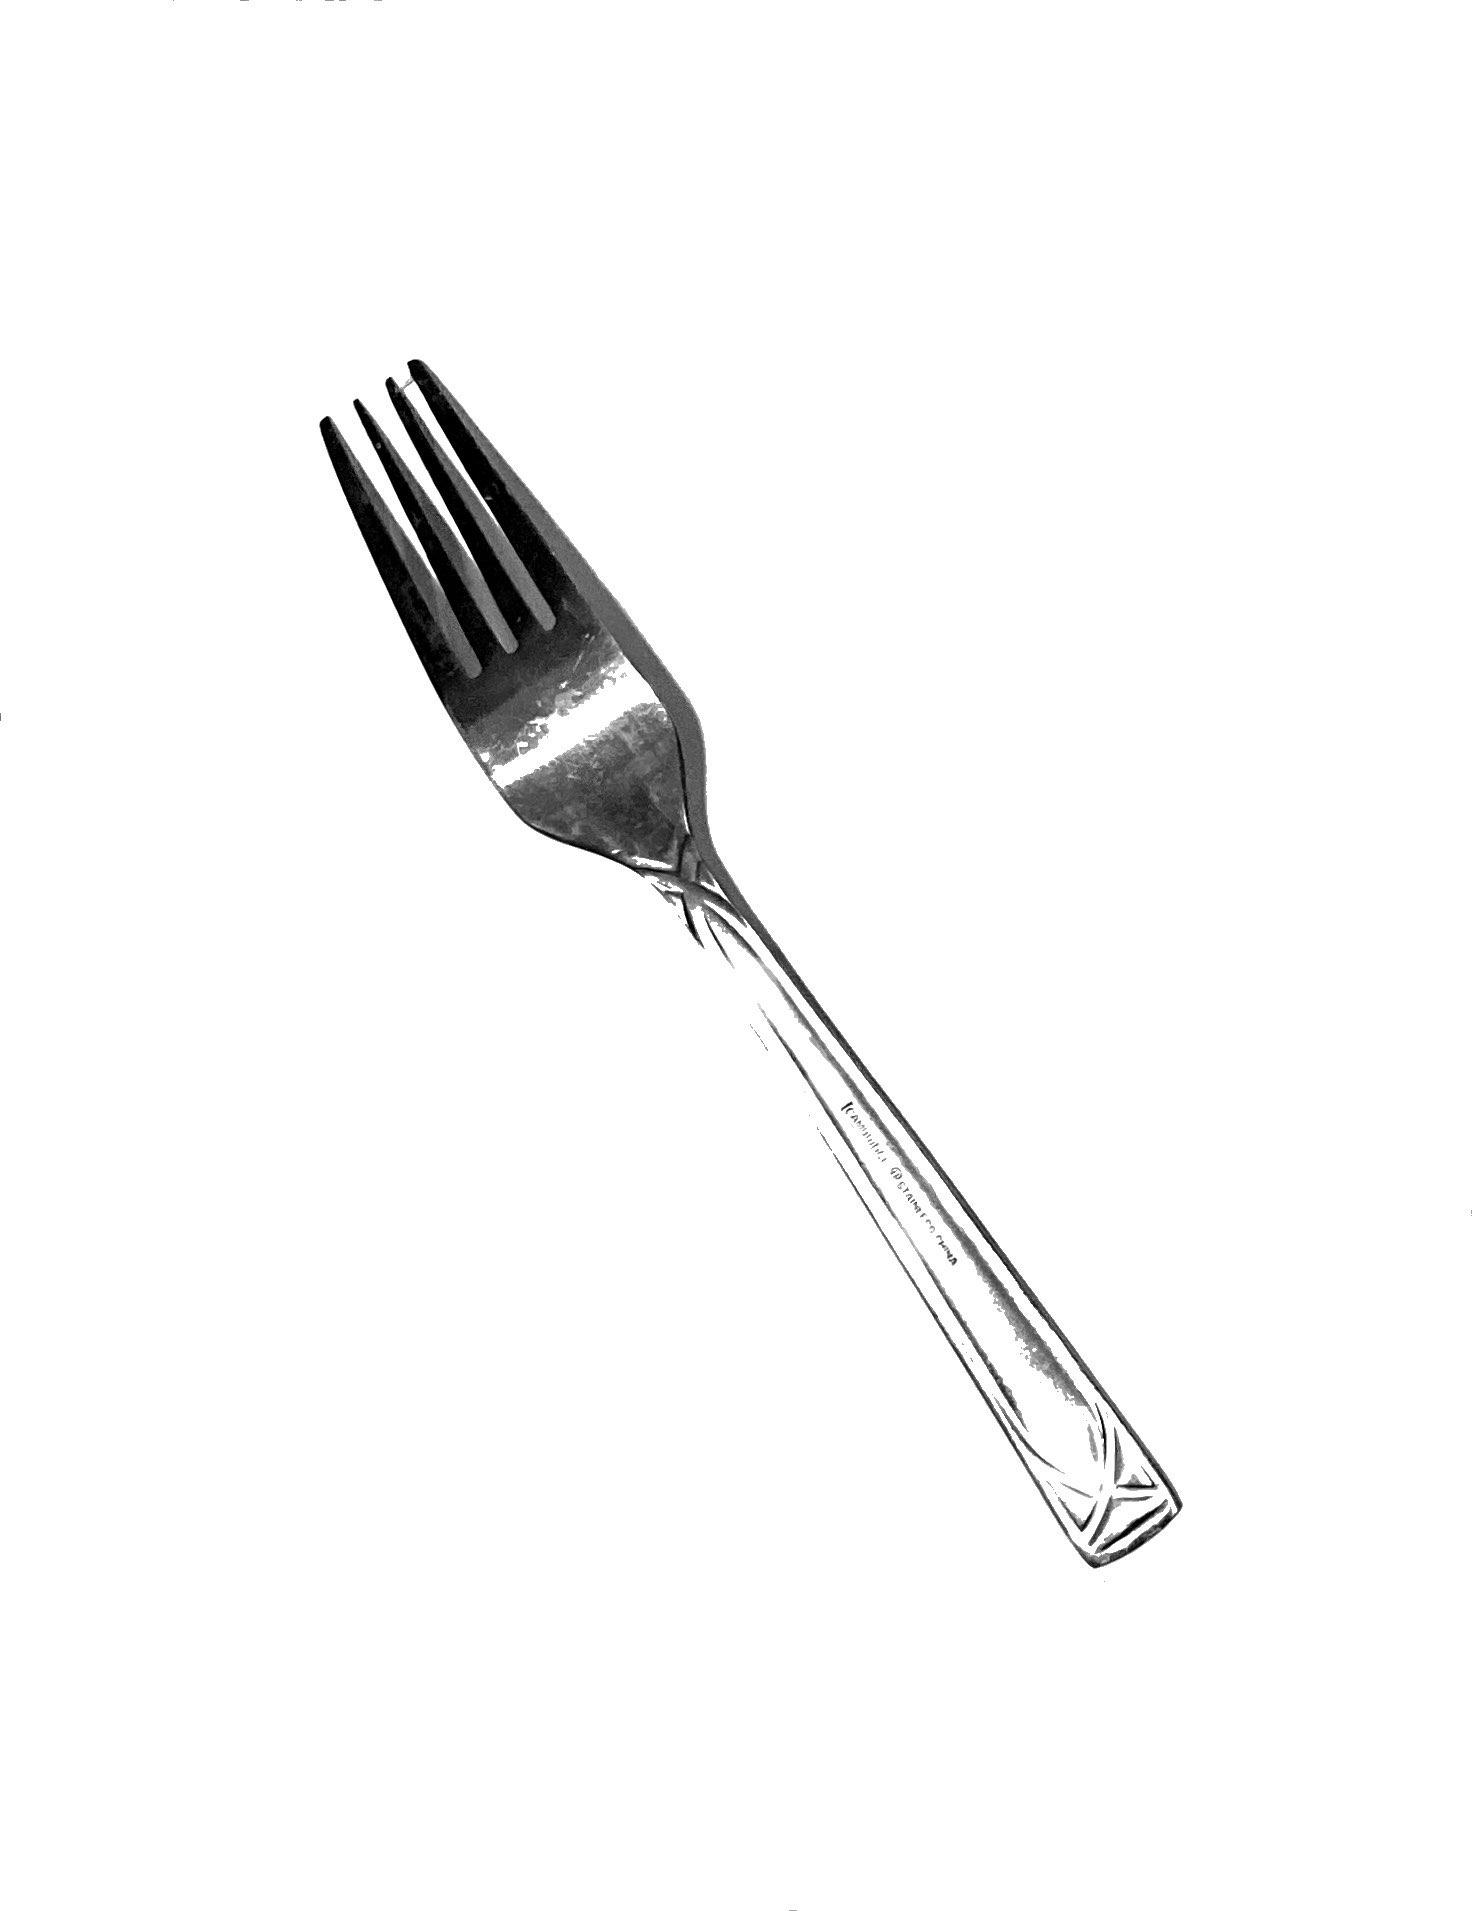Fork: (212, 244, 1381, 1664)
